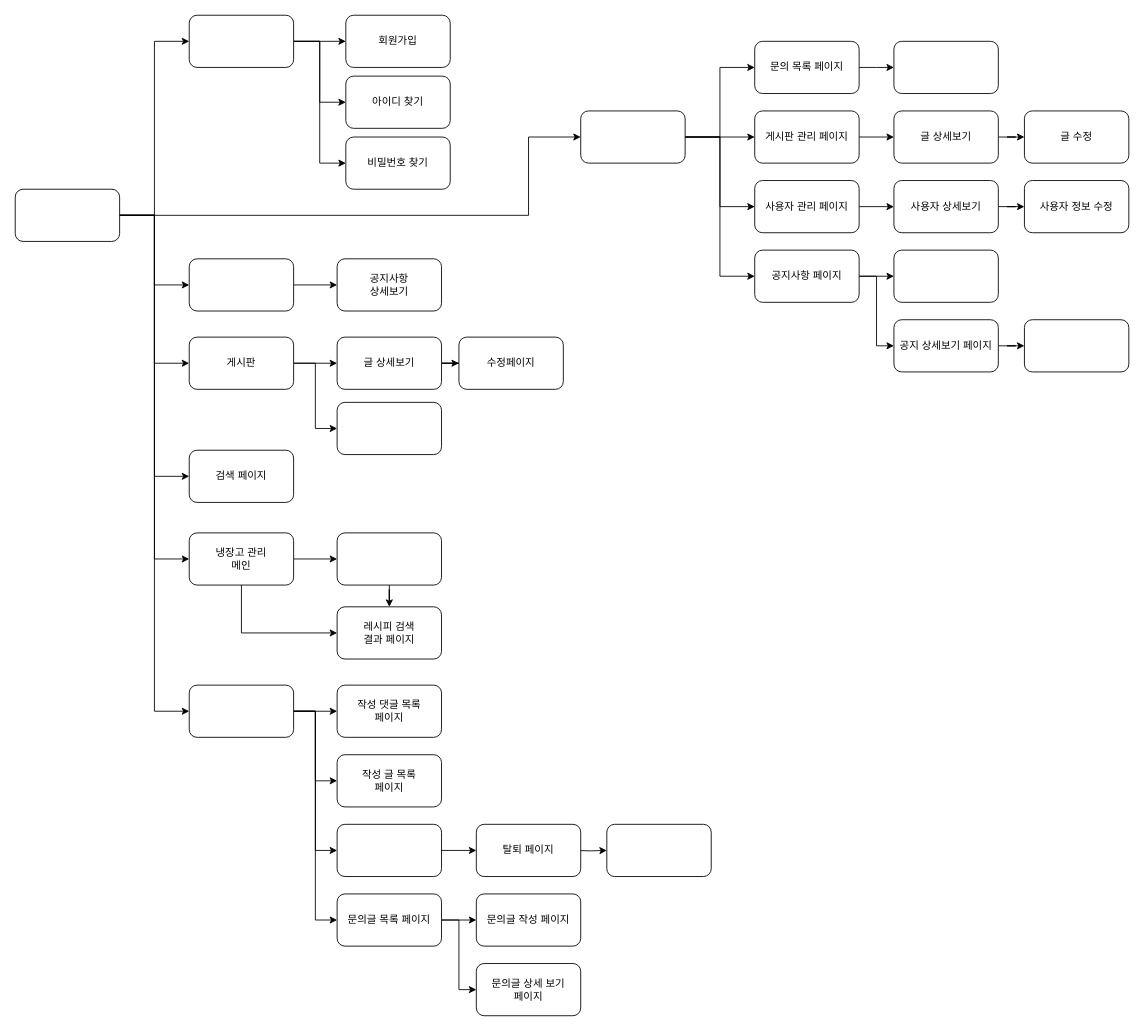
Some shapes in this 1144 by 1031 pixel diagram are drawn without their labels. The shapes that lost their labels are listed below. From the top down, each one's centre as x and y in pixels, then its label:
the point at 241,40: 로그인
the point at 945,67: 문의 상세보기/답변 페이지
the point at 632,136: 관리자페이지
the point at 67,214: 메인페이지
the point at 241,284: 공지사항 목록 페이지
the point at 945,275: 공지 작성 페이지
the point at 1076,345: 공지 수정 페이지
the point at 389,428: 글쓰기 페이지
the point at 389,558: 냉장고 관리 식재료 추가 페이지
the point at 241,710: 마이페이지
the point at 389,850: 개인정보 수정 페이지
the point at 658,850: 탈퇴 완료 페이지
